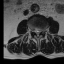CCS_normal: (36, 29, 38, 38)
LFS_severe_stenosis: (41, 29, 43, 33)
LLS_stenosis: (38, 29, 41, 35)
RFS_severe_stenosis: (32, 28, 34, 33)
RLS_stenosis: (34, 29, 36, 35)
